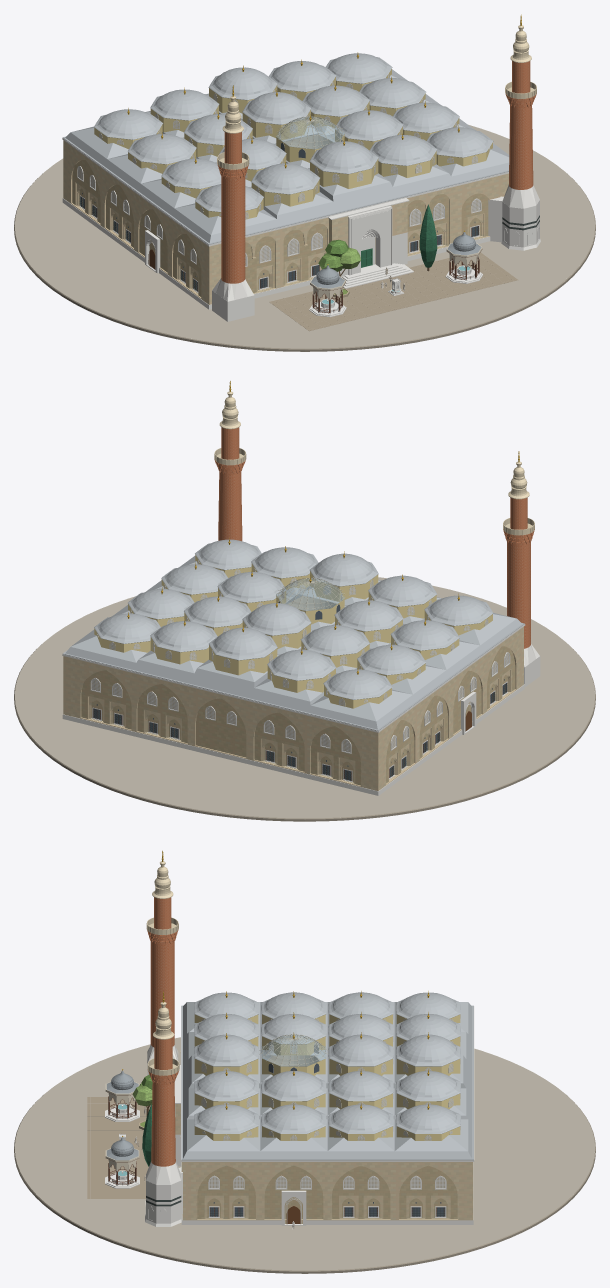
The model's file is ulu-cami_v29_sunum.glb.
The picture shows the model from 3 angles, top to bottom: view 1: azimuth 30°, elevation 25°; view 2: azimuth 150°, elevation 25°; view 3: azimuth 270°, elevation 25°; orthographic projection.
Visible parts, largest first — view 1: Zemin_Kaide, Kubbeler_19, Cati, Cephe_Kuzey, Cephe_Dogu, Minare_1, Zemin_Avlu_Tas, Minare_2, Pencere_Girintileri, Tac_Kapi, Sadirvan_Kubbe, Giris_Cikintili_Blok (+10 smaller); view 2: Zemin_Kaide, Kubbeler_19, Cephe_Guney, Cati, Cephe_Dogu, Pencere_Girintileri, Minare_2, Minare_1, Mermer_Bant, Sadirvan_Kubbe, Kasnak_Pencereleri, Silme_Ust (+2 smaller); view 3: Zemin_Kaide, Kubbeler_19, Cephe_Bati, Cati, Minare_1, Zemin_Avlu_Tas, Minare_2, Pencere_Girintileri, Sadirvan_Kubbe, Kasnak_Pencereleri, Mermer_Bant, Avlu_Sadirvan_Bati (+5 smaller).
Boxes of the visible parts, x1,y1,x2,y2 form: Zemin_Kaide: (14,124,595,351); Kubbeler_19: (94,53,493,219); Cati: (62,69,509,244); Cephe_Kuzey: (208,173,508,304); Cephe_Dogu: (64,141,208,304); Minare_1: (488,14,540,250); Zemin_Avlu_Tas: (269,252,517,331); Minare_2: (212,85,254,321); Pencere_Girintileri: (76,182,484,295); Tac_Kapi: (342,206,413,288); Sadirvan_Kubbe: (276,117,344,162); Giris_Cikintili_Blok: (328,198,409,277); Zemin_Kaide: (14,577,595,821); Kubbeler_19: (94,539,493,708); Cephe_Guney: (63,656,378,790); Cati: (63,556,524,731); Cephe_Dogu: (379,627,523,790); Pencere_Girintileri: (87,669,511,783); Minare_2: (503,451,540,686); Minare_1: (214,381,246,541); Mermer_Bant: (62,684,524,795); Sadirvan_Kubbe: (276,578,344,624); Kasnak_Pencereleri: (97,560,488,706); Silme_Ust: (62,624,525,732); Zemin_Kaide: (14,1037,595,1273); Kubbeler_19: (194,992,460,1140); Cephe_Bati: (183,1162,471,1223); Cati: (181,1002,473,1160); Minare_1: (145,991,182,1226); Zemin_Avlu_Tas: (87,1097,150,1198); Minare_2: (146,850,178,1075); Pencere_Girintileri: (204,1195,450,1218); Sadirvan_Kubbe: (261,1035,325,1075); Kasnak_Pencereleri: (201,1014,460,1140); Mermer_Bant: (181,1162,473,1224); Avlu_Sadirvan_Bati: (105,1136,139,1188).
Size of the model in its own units: 111 by 48.52 by 111.
53 materials, 10 textured.
